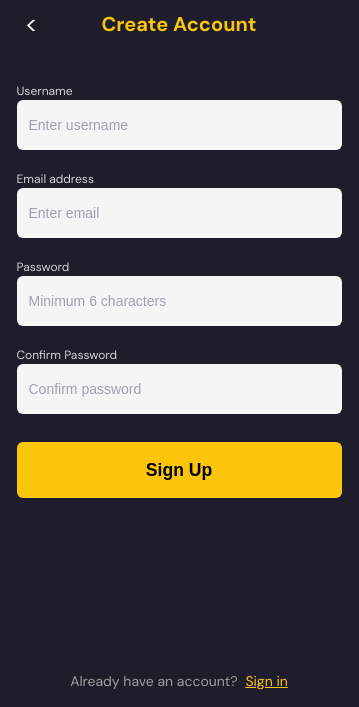
Test: RegisterPage › shows error for invalid email format
The width and height of the screenshot is (359, 707).
Step 1. Type "invalid-email" into the field with placeholder "Enter email" → (179, 213), box [16,188,342,238]
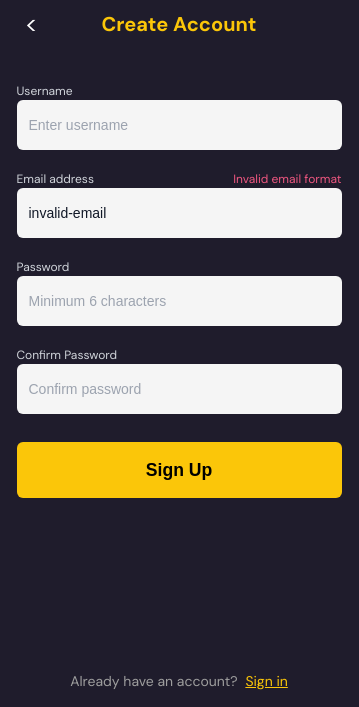
expect the text "Invalid email format" is shown: met, box [233,170,342,188]
